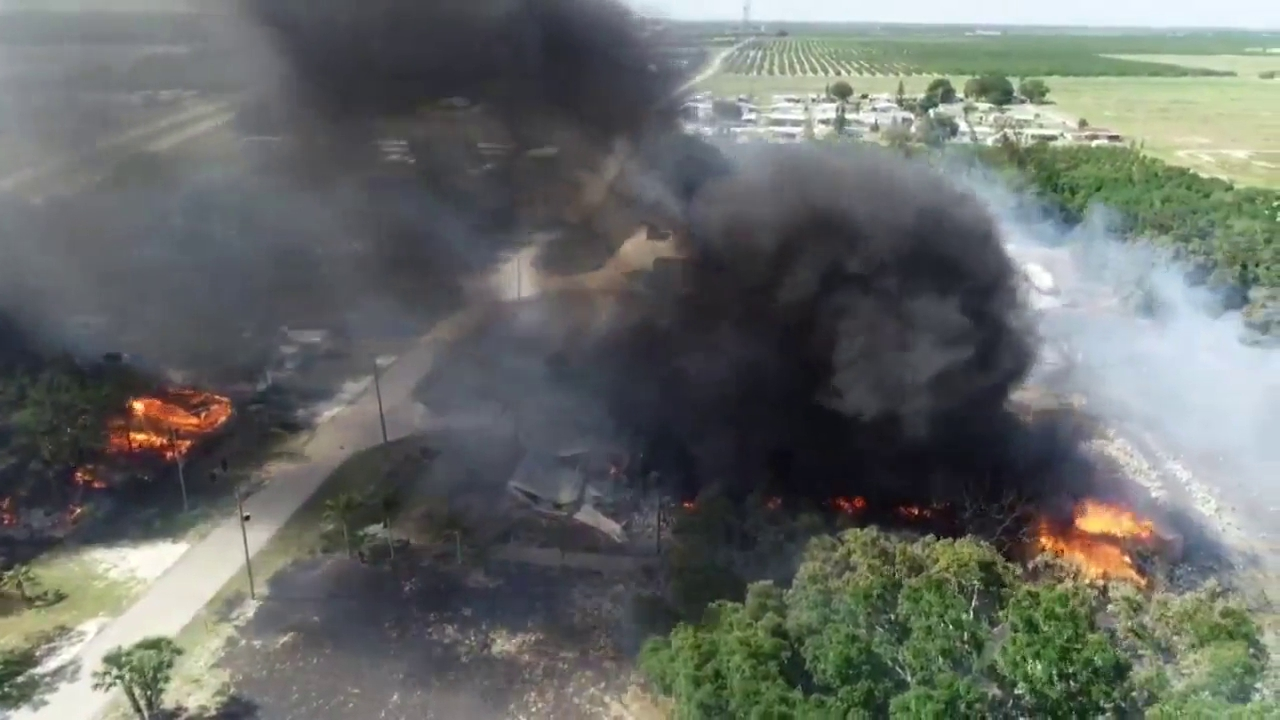forest_fire: (1030, 498, 1166, 586), (1035, 498, 1155, 585), (108, 388, 232, 460), (108, 389, 232, 460), (885, 503, 950, 526), (826, 496, 870, 518), (73, 464, 104, 486), (765, 497, 781, 507), (681, 500, 696, 510)
